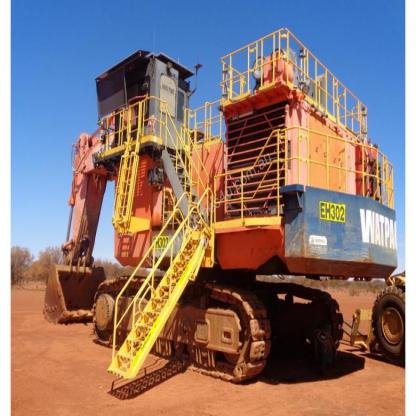excavator: (36, 30, 415, 413)
